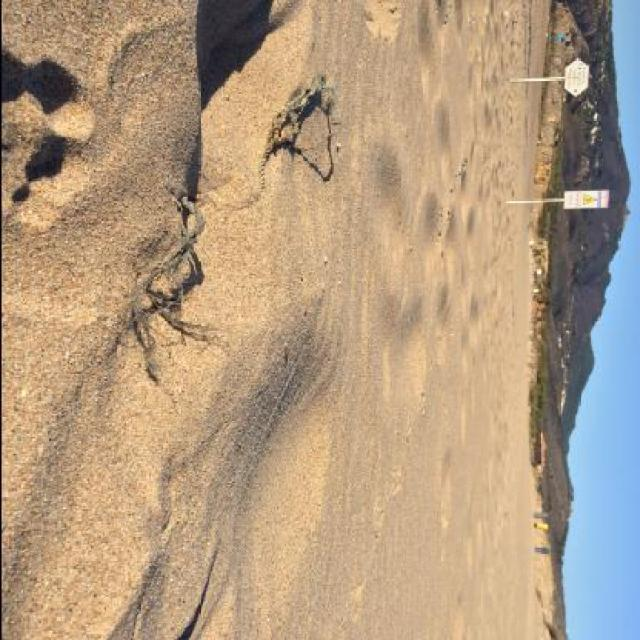other: (129, 197, 209, 346), (254, 75, 332, 194)
